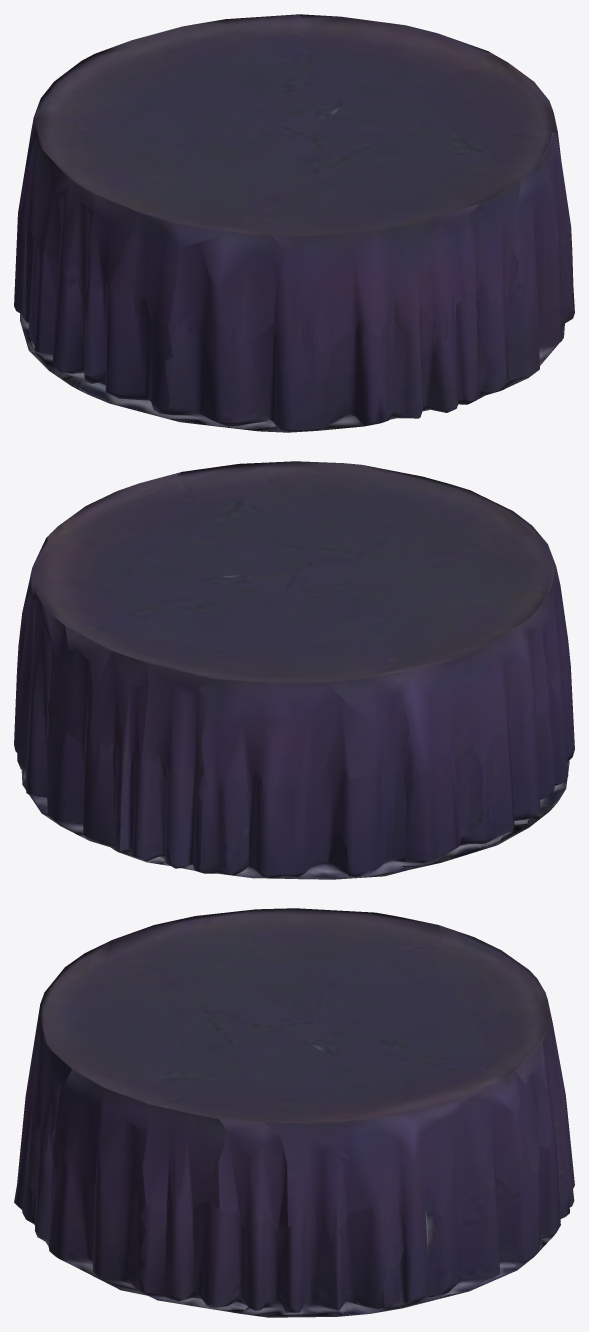
Rendered from meja_bundar_hitam_lod2.glb.
3 renders of one model, top to bottom at view 1: azimuth 30°, elevation 25°; view 2: azimuth 150°, elevation 25°; view 3: azimuth 270°, elevation 25°, orthographic. The views are drawn at different scales.
Visible parts, largest first — view 1: tripo_node_affcfdf9-f292-4d26-bcff-ab563487553d; view 2: tripo_node_affcfdf9-f292-4d26-bcff-ab563487553d; view 3: tripo_node_affcfdf9-f292-4d26-bcff-ab563487553d.
Boxes of the visible parts, bbox=[...] form: tripo_node_affcfdf9-f292-4d26-bcff-ab563487553d: bbox=[14, 14, 574, 432]; tripo_node_affcfdf9-f292-4d26-bcff-ab563487553d: bbox=[14, 461, 574, 879]; tripo_node_affcfdf9-f292-4d26-bcff-ab563487553d: bbox=[14, 908, 574, 1317].
Size of the model in its own units: 0.9887 by 0.3764 by 1.
1 material, 1 textured.
